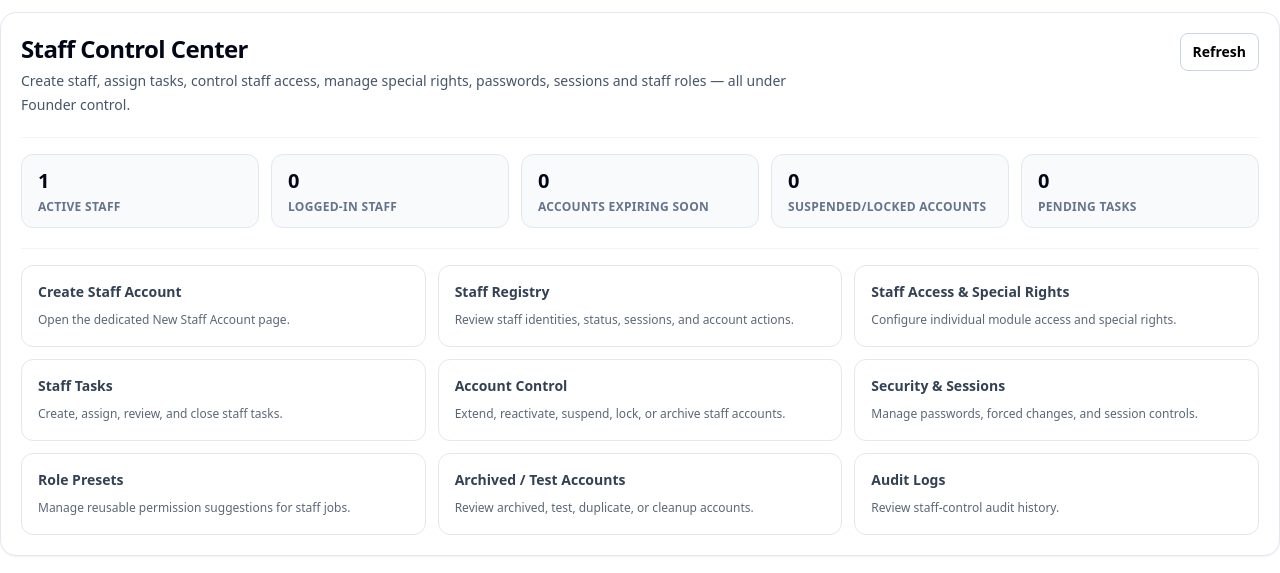
Test: TeamManagement route organization › Create Staff Account navigates to /team/create
The image size is (1280, 573).
Click the button "Create Staff Account": x=110, y=292 [21, 265, 426, 347]
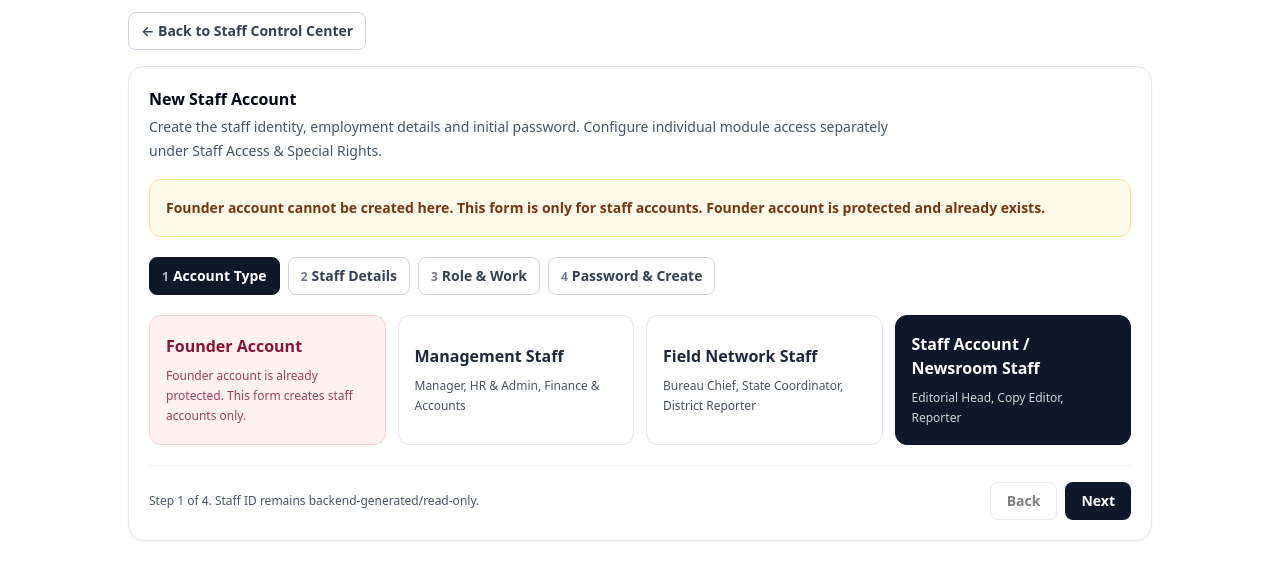
Expected: the text "New Staff Account" is shown, [149, 88, 296, 110]
Expected: the button "← Back to Staff Control Center" is shown, [128, 12, 366, 50]
